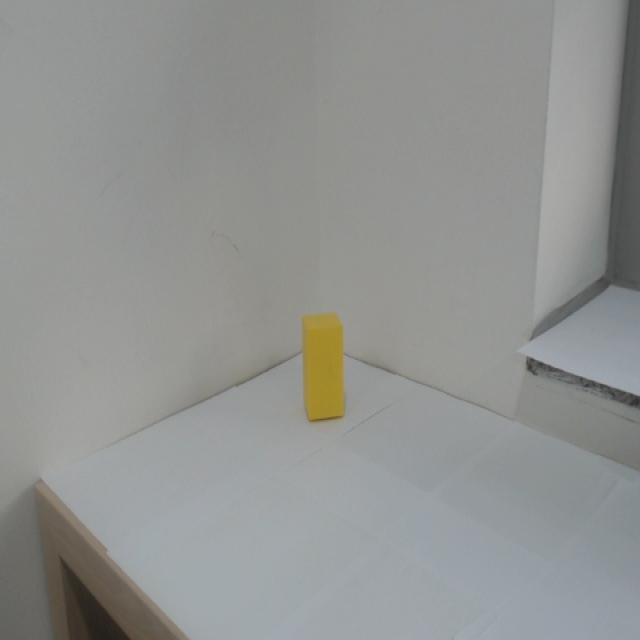cube: (295, 302, 361, 438)
